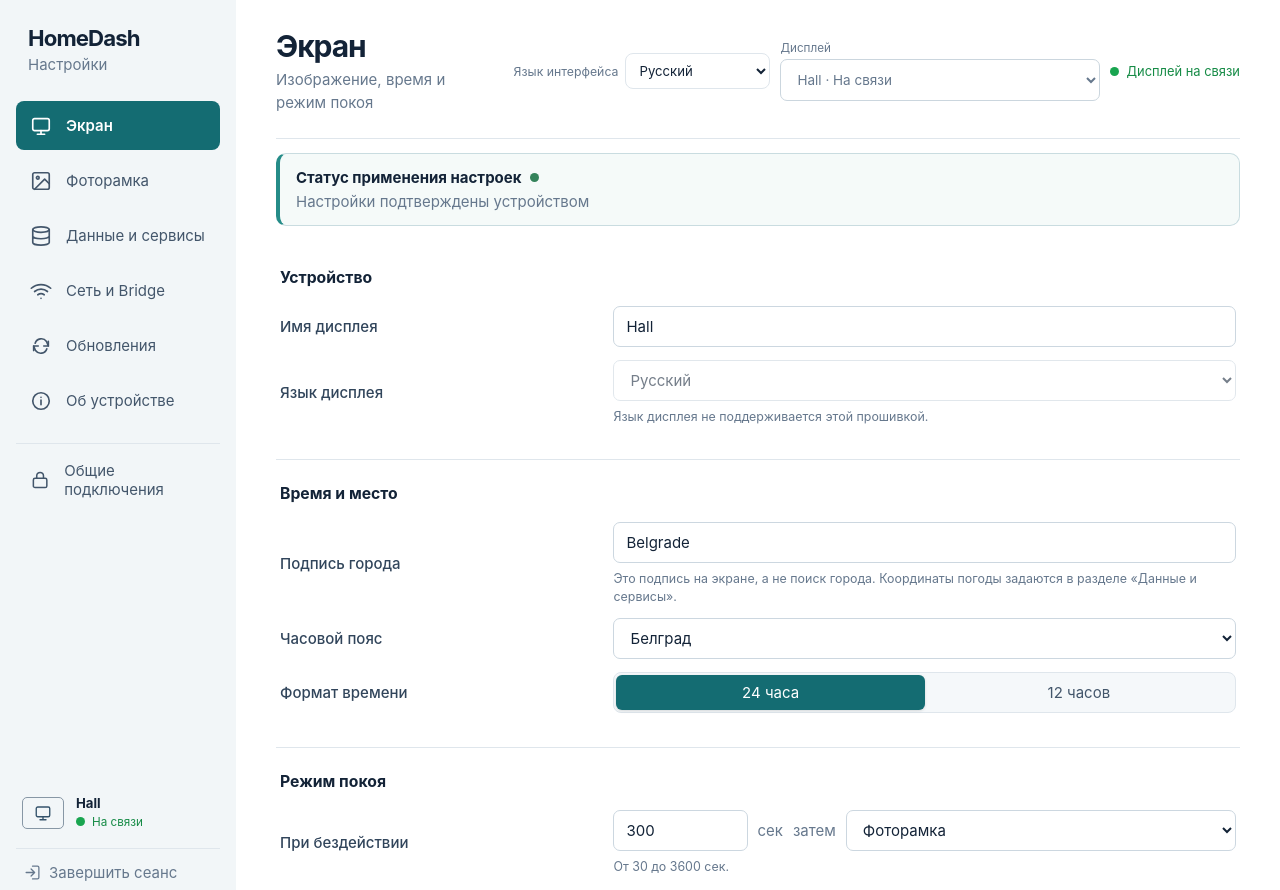
multi-display shell › retains the last status after a failed GET and lets the user check again
This screenshot has width=1280, height=890.
Expected: the field named "Подпись города" is shown, [614, 522, 1236, 562]
Click the button "Об устройстве": click(118, 400) [16, 376, 220, 425]
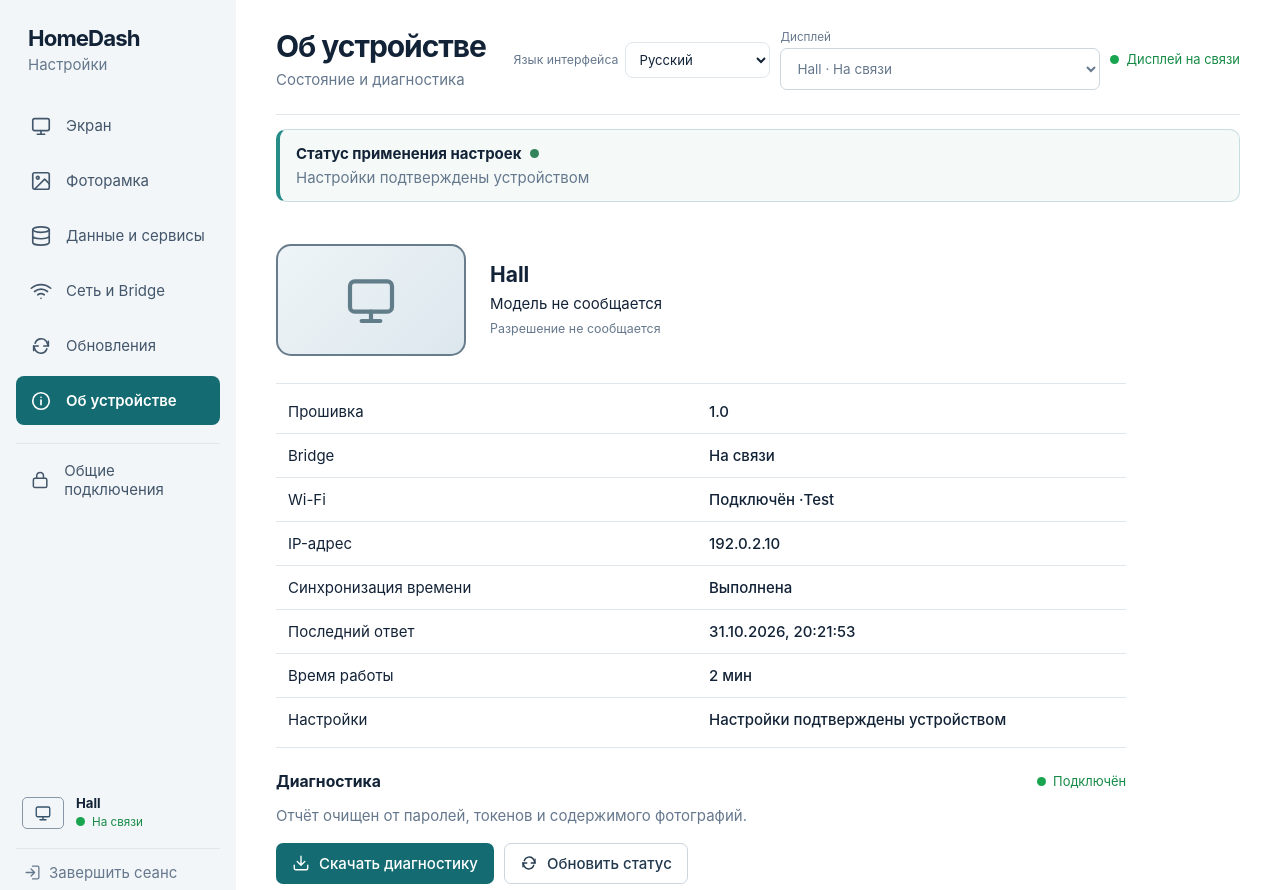
Click the button "Обновить статус": click(596, 863) [504, 842, 688, 884]
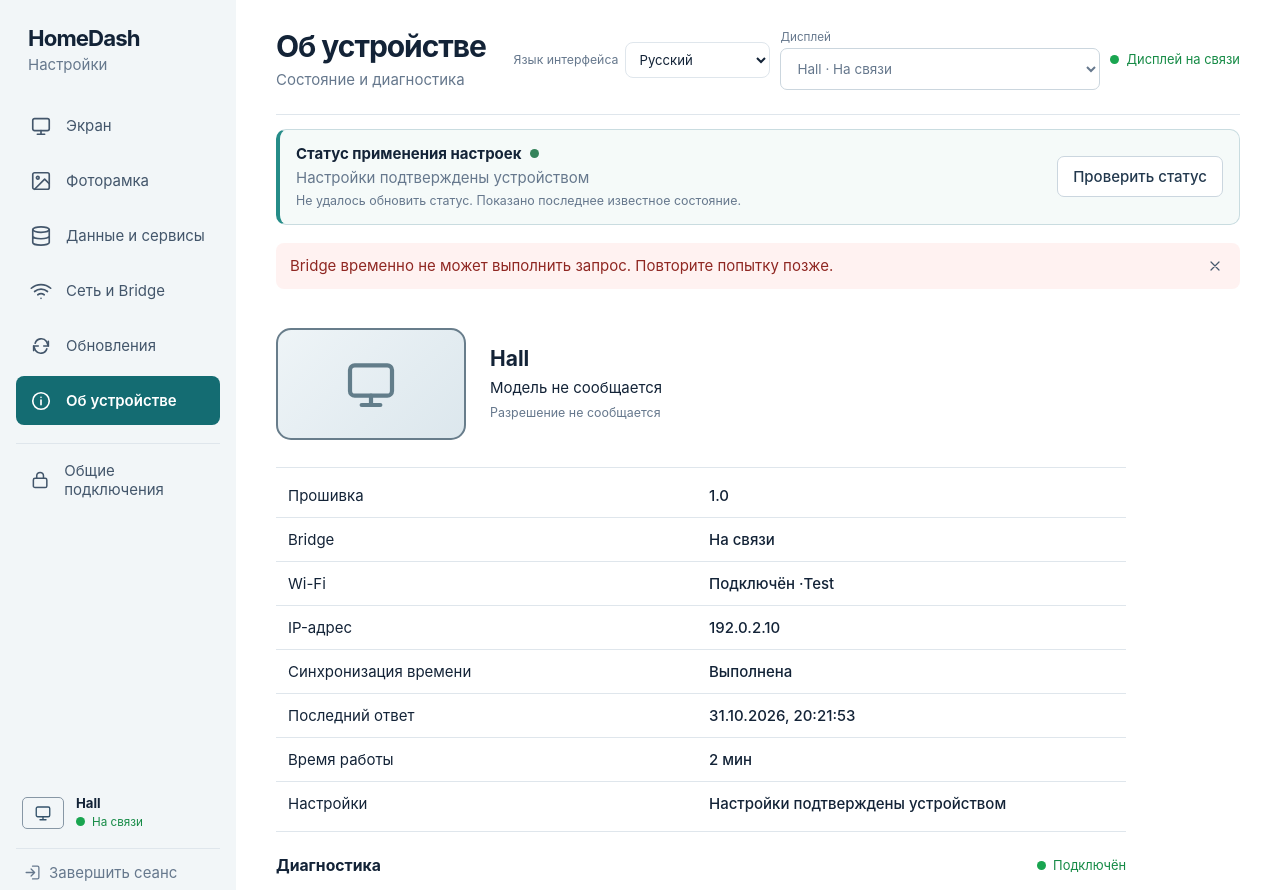
Now the text "Не удалось обновить статус. Показано последнее известное состояние." is shown, box [296, 193, 741, 208]
Now the button "Проверить статус" is shown
Click the button "Проверить статус": click(1140, 177) [1057, 156, 1223, 198]
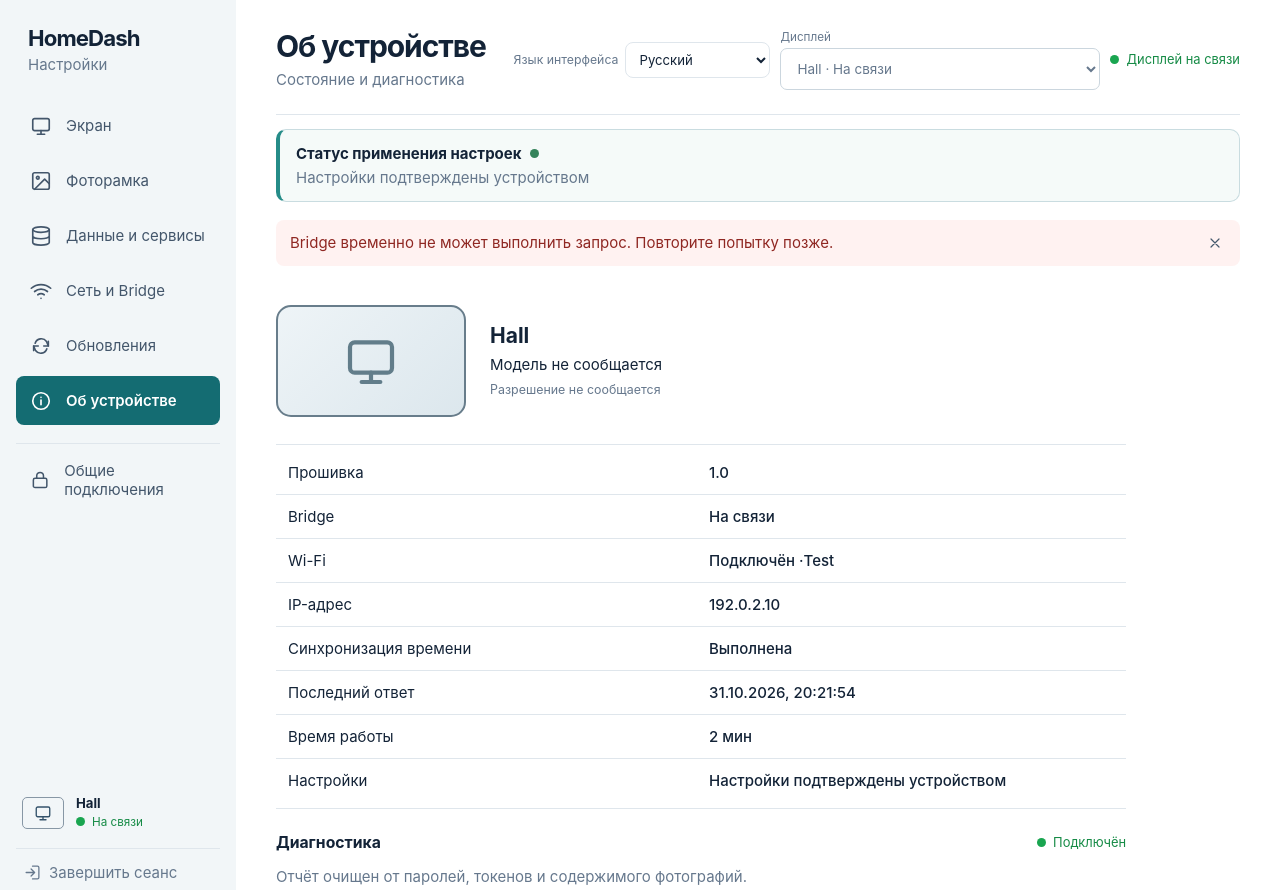
Now the text "Не удалось обновить статус. Показано последнее известное состояние." is gone
